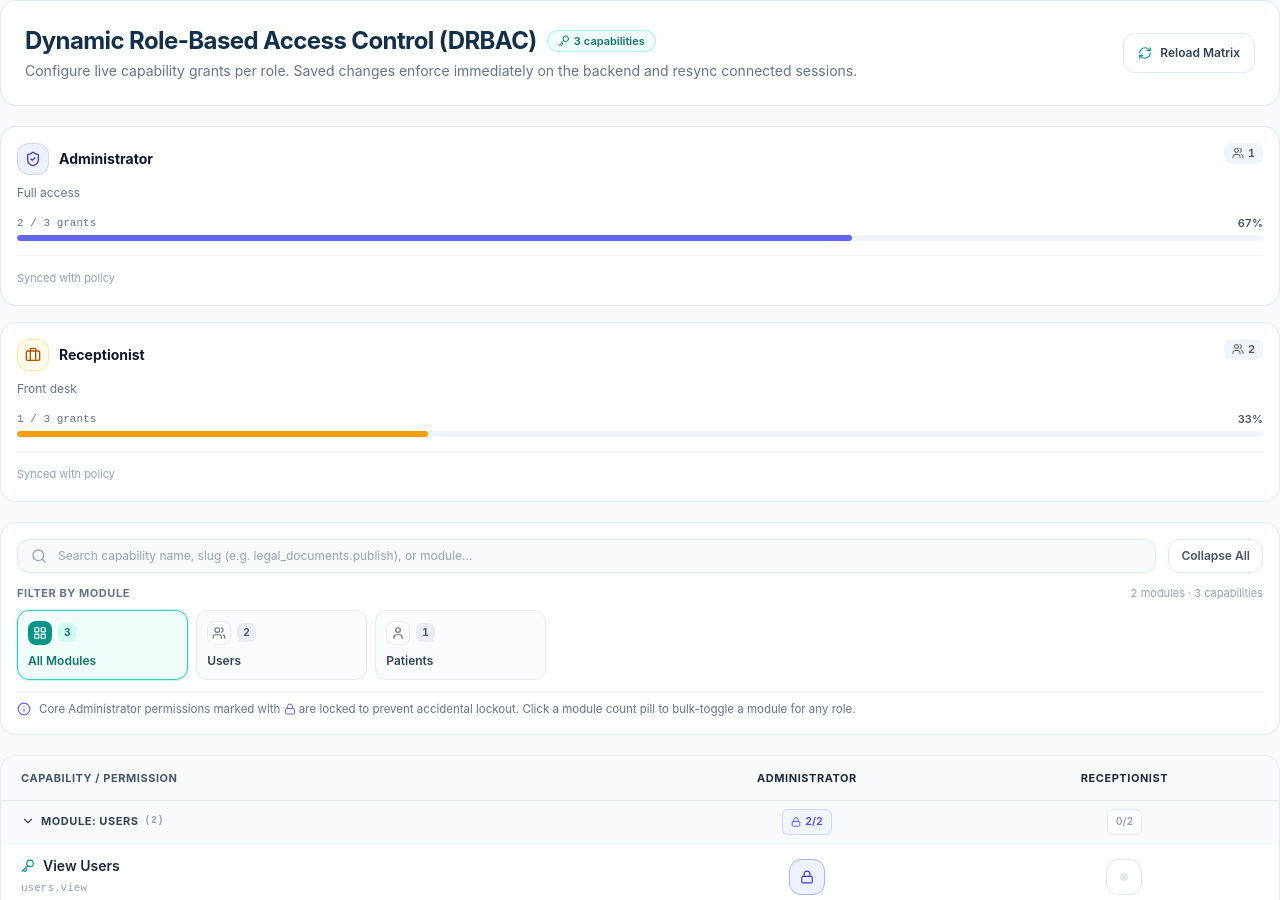
Test: Administrator Control Center Frontend Suite › renders RolePermissionMatrixPage and guards locked admin permissions
Expected: the heading "Dynamic Role-Based Access Control (DRBAC)" is shown, [25,25,537,57]
Expected: the text "View Users" is shown, [43,856,120,876]
// Toggle permission for Receptionist
Click the button titled "Toggle users.view for Receptionist" at {"x": 1124, "y": 877}, box [1106,859,1142,895]
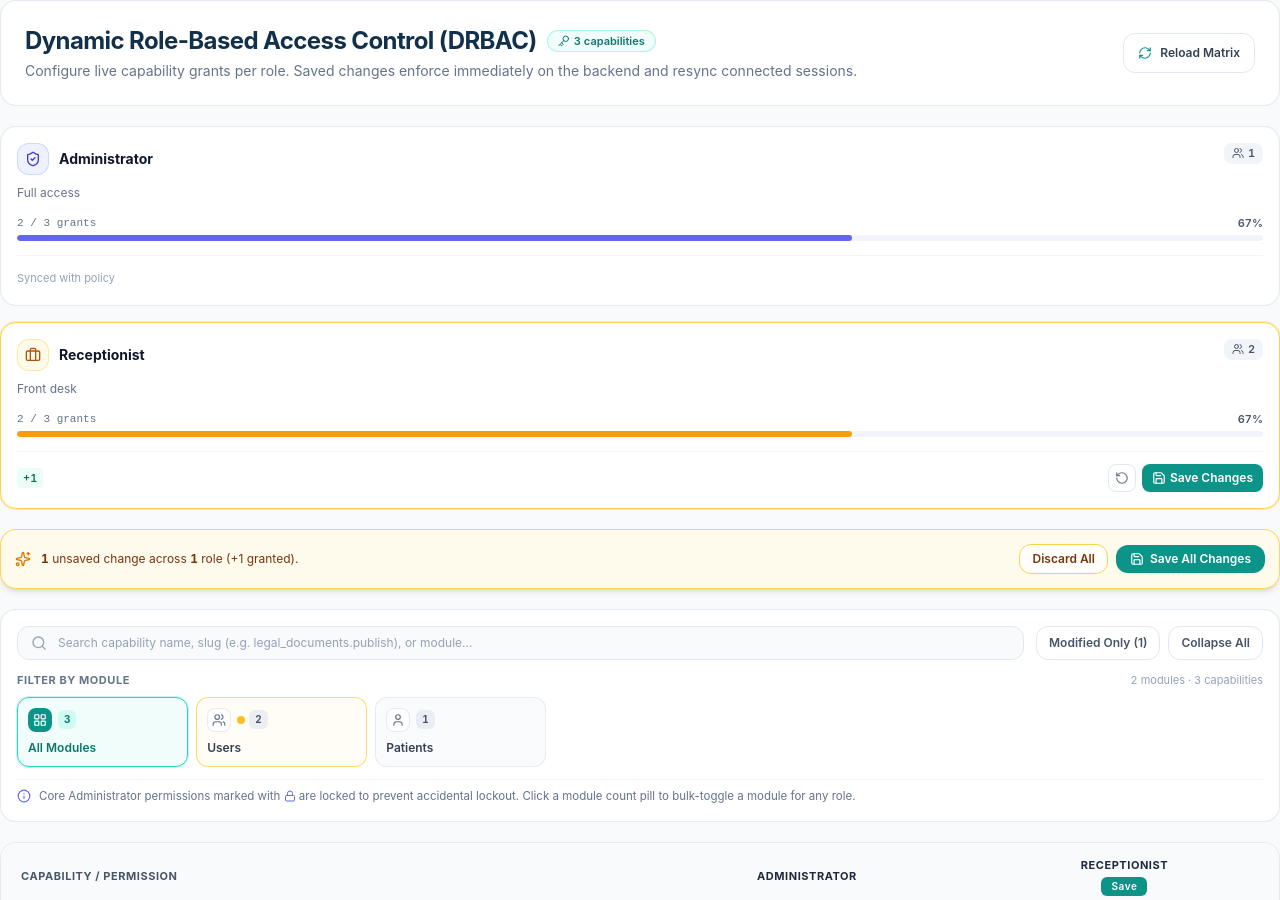
Now the text "Save Changes" is shown, box [1170,470,1253,486]
